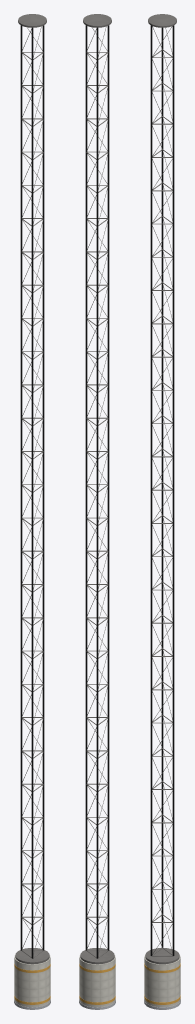
File: robo03_deployable_boom_s_deployed.glb
The picture shows the model from 3 angles, left to right: view 1: azimuth 30°, elevation 25°; view 2: azimuth 150°, elevation 25°; view 3: azimuth 330°, elevation 25°; orthographic projection.
Visible parts, largest first — view 1: boom_longerons, boom_battens, canister, boom_lid, boom_tip, canister_bands; view 2: boom_longerons, boom_battens, canister, boom_lid, boom_tip, canister_bands; view 3: boom_longerons, boom_battens, canister, boom_lid, boom_tip, canister_bands.
Boxes of the visible parts, <box> form: boom_longerons: <box>20,25,44,958</box>; boom_battens: <box>21,26,43,957</box>; canister: <box>14,955,50,1007</box>; boom_lid: <box>15,948,49,964</box>; boom_tip: <box>18,14,46,27</box>; canister_bands: <box>14,964,50,1004</box>; boom_longerons: <box>85,25,109,958</box>; boom_battens: <box>86,26,108,957</box>; canister: <box>79,955,115,1007</box>; boom_lid: <box>80,948,114,964</box>; boom_tip: <box>83,14,111,27</box>; canister_bands: <box>79,964,115,1004</box>; boom_longerons: <box>150,25,174,955</box>; boom_battens: <box>151,26,173,956</box>; canister: <box>144,955,180,1007</box>; boom_lid: <box>145,948,179,964</box>; boom_tip: <box>148,14,176,27</box>; canister_bands: <box>144,963,180,1004</box>.
Bounding box in the file's own units: 1.02 × 30 × 1.02.
Materials: 5 (4 with a texture image).
